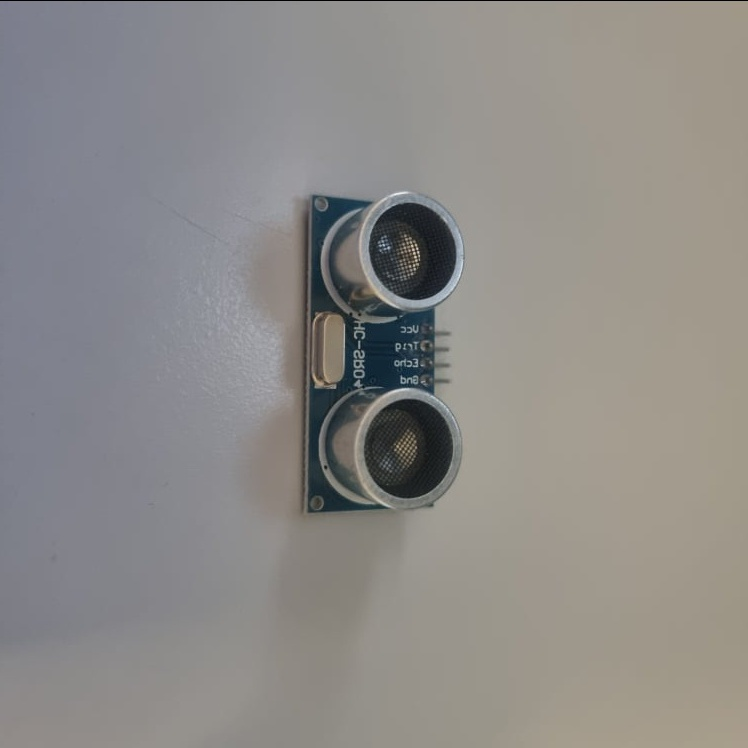SENSOR: (303, 190, 467, 514)
